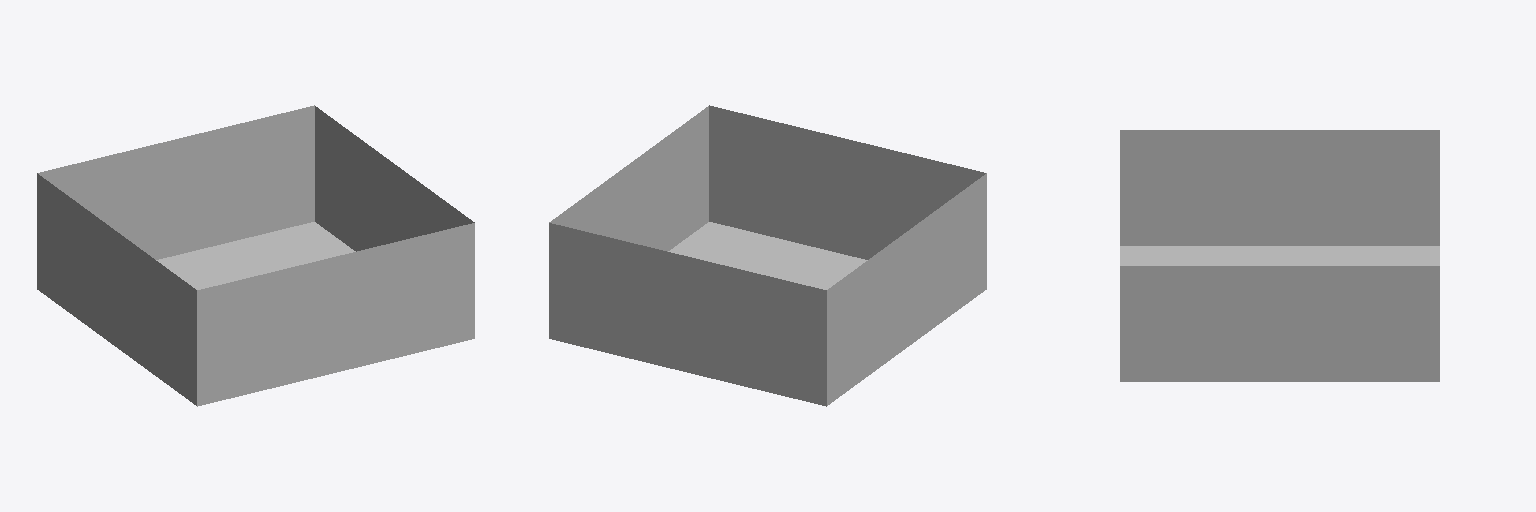
Rendered from room.obj.
3 views of the same model, side by side, from view 1: azimuth 30°, elevation 25°; view 2: azimuth 150°, elevation 25°; view 3: azimuth 270°, elevation 25° (orthographic).
Parts seen in each view (by area): view 1: Plane.001; view 2: Plane.001; view 3: Plane.001.
Boxes of the visible parts, x1,y1,x2,y2 form: Plane.001: [37, 105, 474, 406]; Plane.001: [549, 105, 986, 406]; Plane.001: [1120, 130, 1439, 381].
Size of the model in its own units: 5 by 2 by 5.